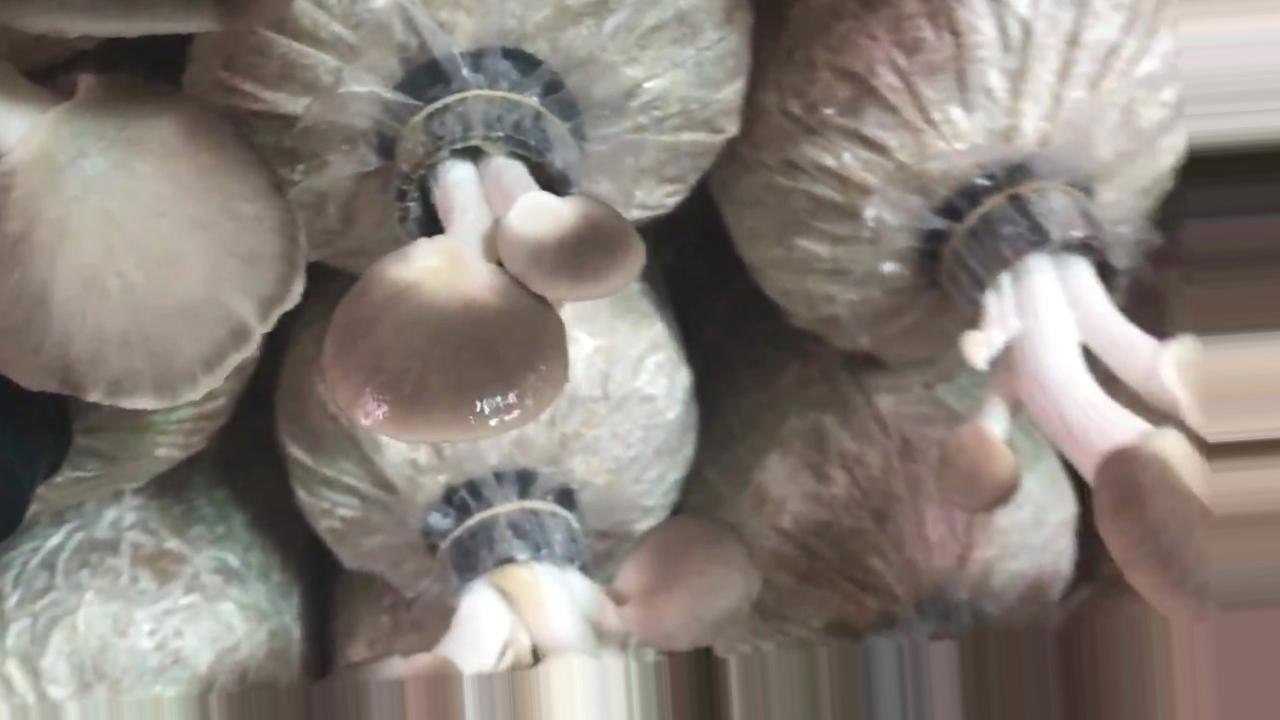nam: (927, 184, 1280, 613), (1, 2, 309, 413), (334, 75, 650, 446), (320, 496, 761, 720)
